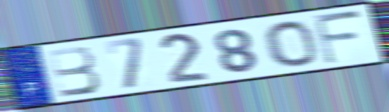2: (160, 31, 210, 83)
7: (104, 36, 146, 92)
8: (213, 28, 259, 73)
B: (45, 45, 103, 99)
F: (311, 9, 366, 66)
O: (262, 19, 320, 68)
